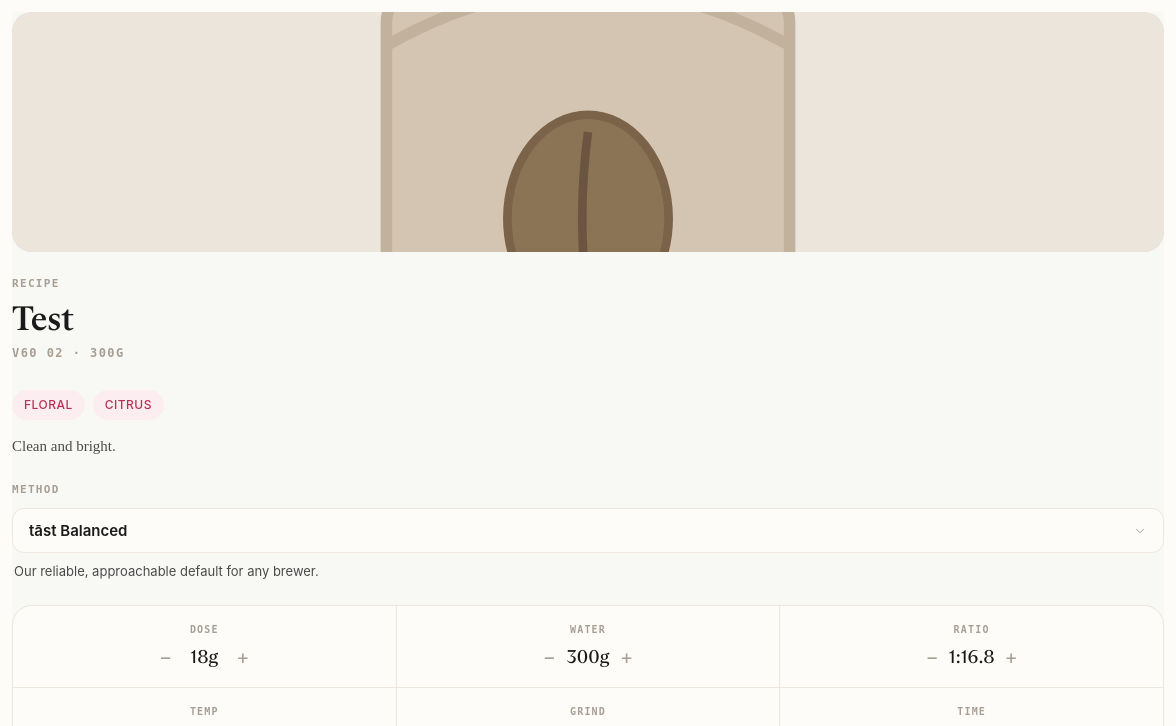
Scenario: RecipeView editable weights › increasing the dose rescales the water (and the brew steps)
Click the button named "Increase Dose" at (243, 657), box left=228, top=643, right=258, bottom=671
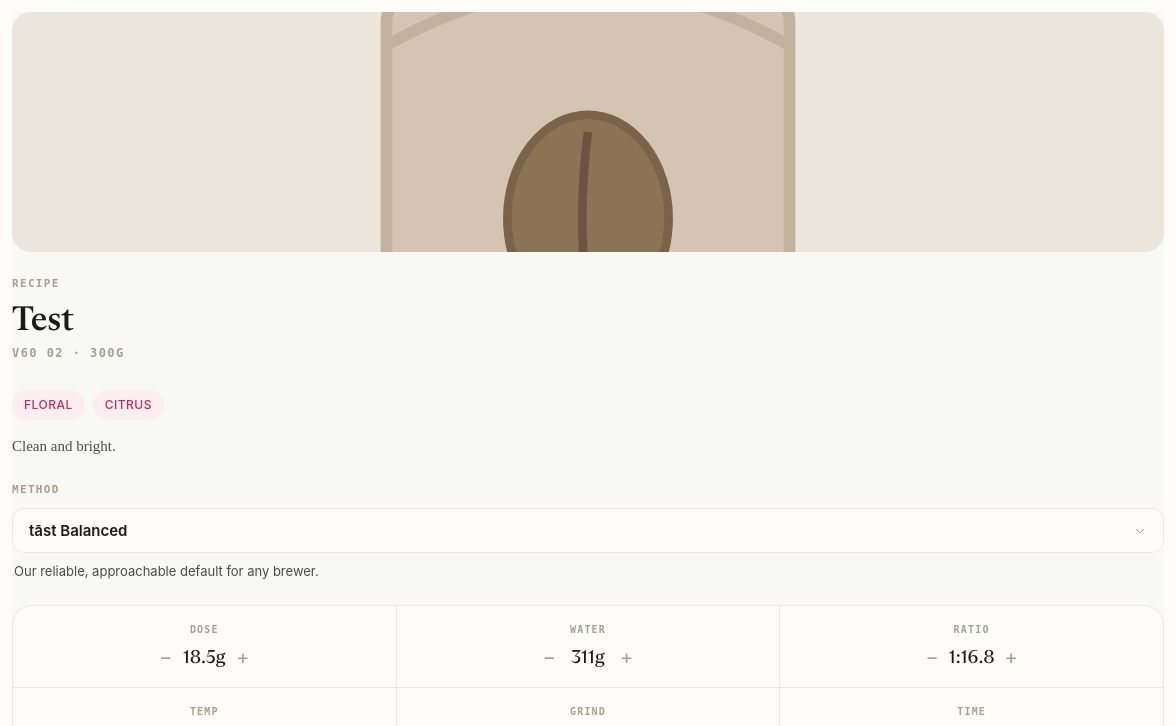
Expected: the text "18.5g" is shown, left=182, top=645, right=226, bottom=669
